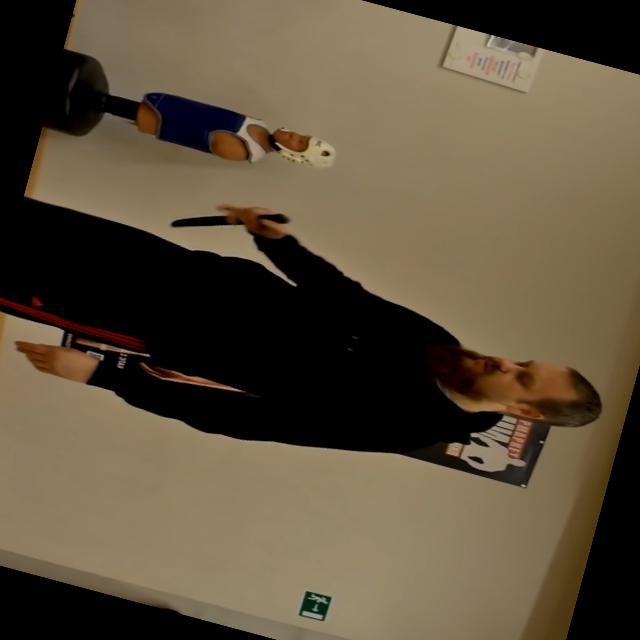knife: (162, 182, 296, 260)
